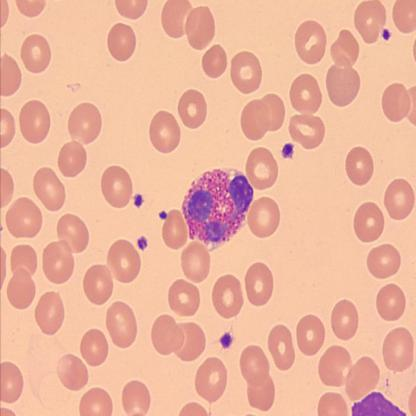Eosinophil: (183, 166, 255, 249)
